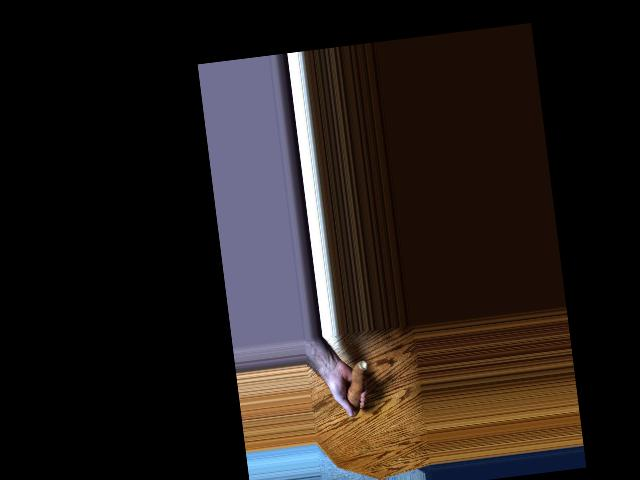sweet_potato: (341, 356, 373, 420)
